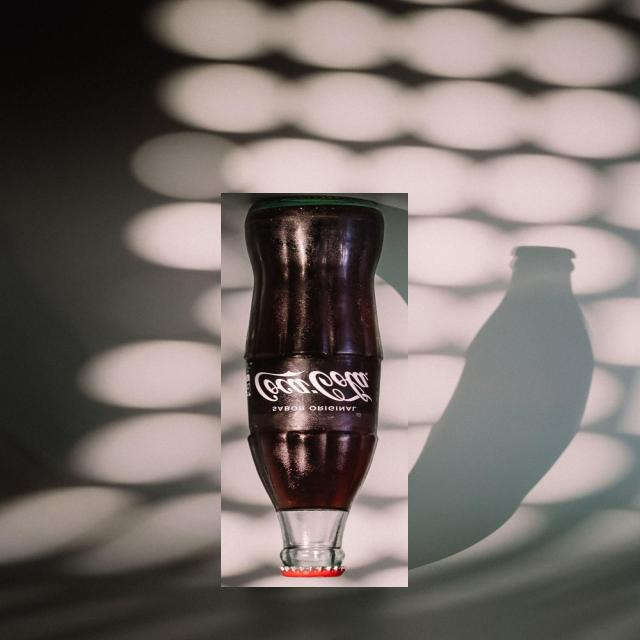coca-cola: (221, 193, 408, 588)
